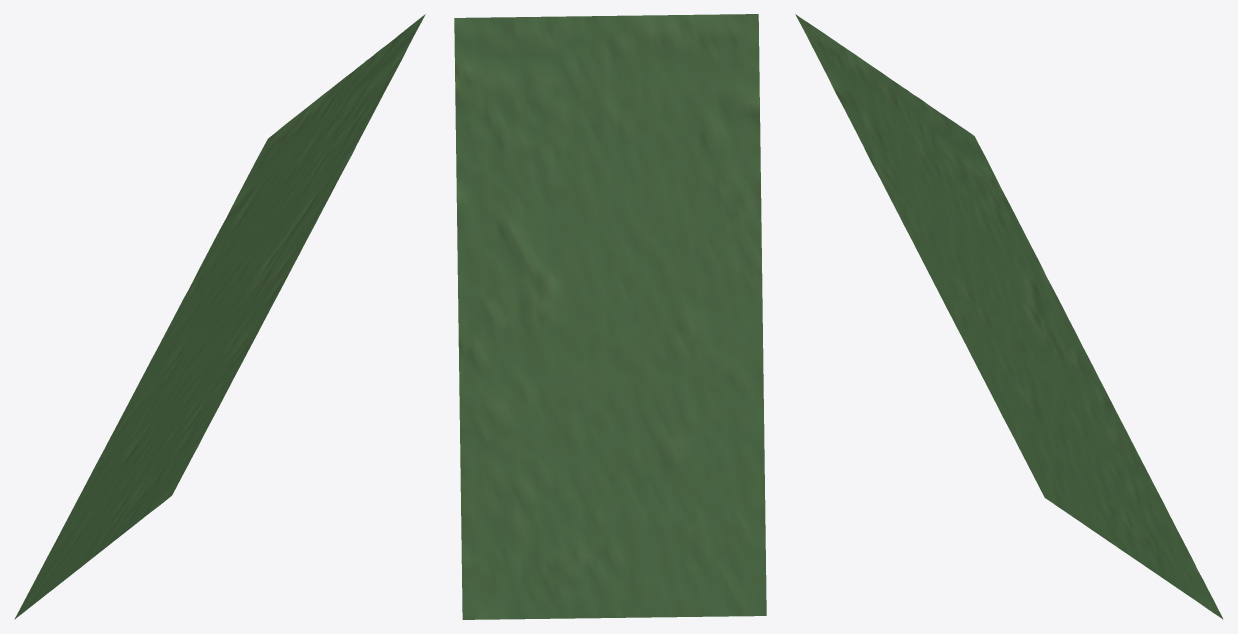
3 renders of one model, left to right at view 1: azimuth 30°, elevation 25°; view 2: azimuth 150°, elevation 25°; view 3: azimuth 270°, elevation 25°, orthographic. The views are drawn at different scales.
Size of the model in its own units: 9817 by 13408 by 9486.
